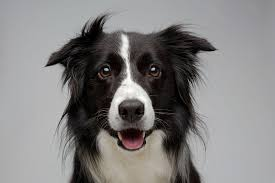dog: (93, 60, 167, 151)
